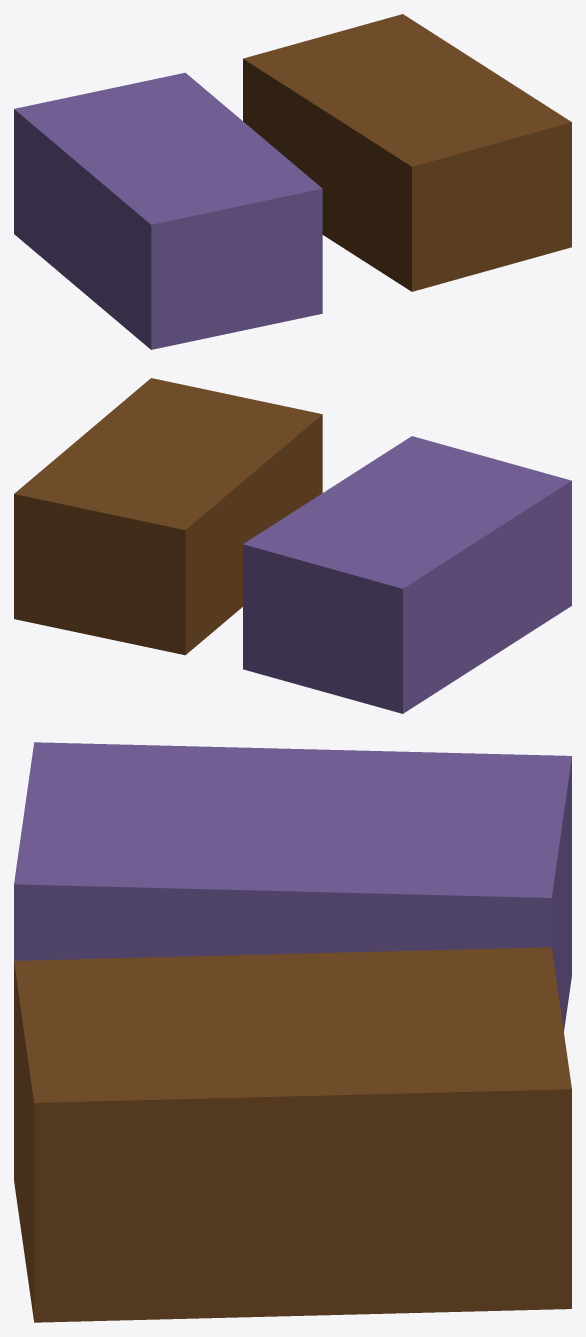
File: feet.glb
3 views of the same model, one above another, from view 1: azimuth 30°, elevation 25°; view 2: azimuth 150°, elevation 25°; view 3: azimuth 270°, elevation 25° (orthographic). The views are drawn at different scales.
Parts seen in each view (by area): view 1: boot_-1, boot_1; view 2: boot_-1, boot_1; view 3: boot_1, boot_-1.
Boxes of the visible parts, left/top/right/bottom form: boot_-1: left=14, top=72, right=322, bottom=349; boot_1: left=243, top=14, right=571, bottom=291; boot_-1: left=243, top=436, right=571, bottom=713; boot_1: left=14, top=378, right=322, bottom=655; boot_1: left=14, top=947, right=571, bottom=1322; boot_-1: left=14, top=742, right=571, bottom=1031.
Bounding box in the file's own units: 0.6335 × 0.18 × 0.4143.
